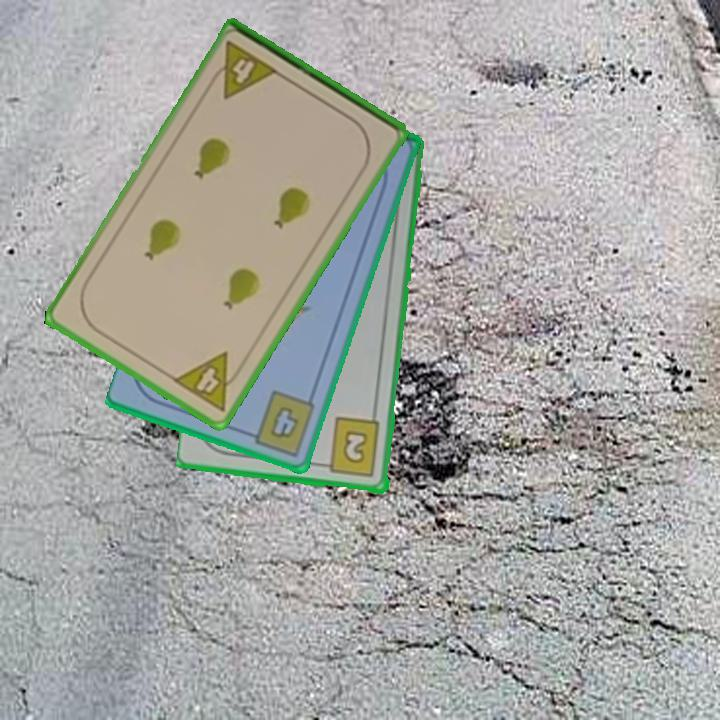2b: (317, 415, 384, 480)
4b: (242, 387, 318, 460)
4p: (169, 348, 248, 415), (204, 37, 281, 102)
